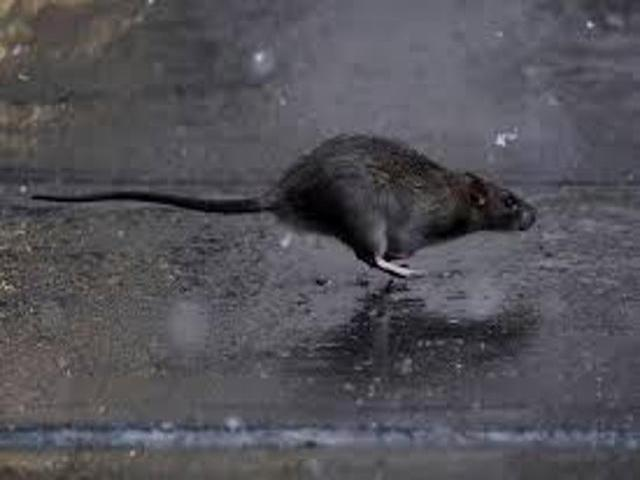Tikus: (29, 127, 541, 280)
